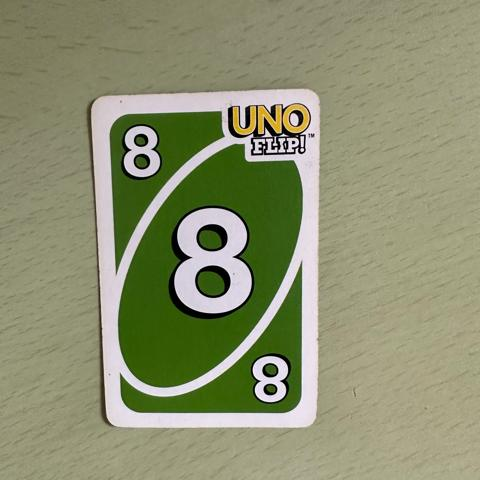lgreen-8: (104, 104, 180, 196)
